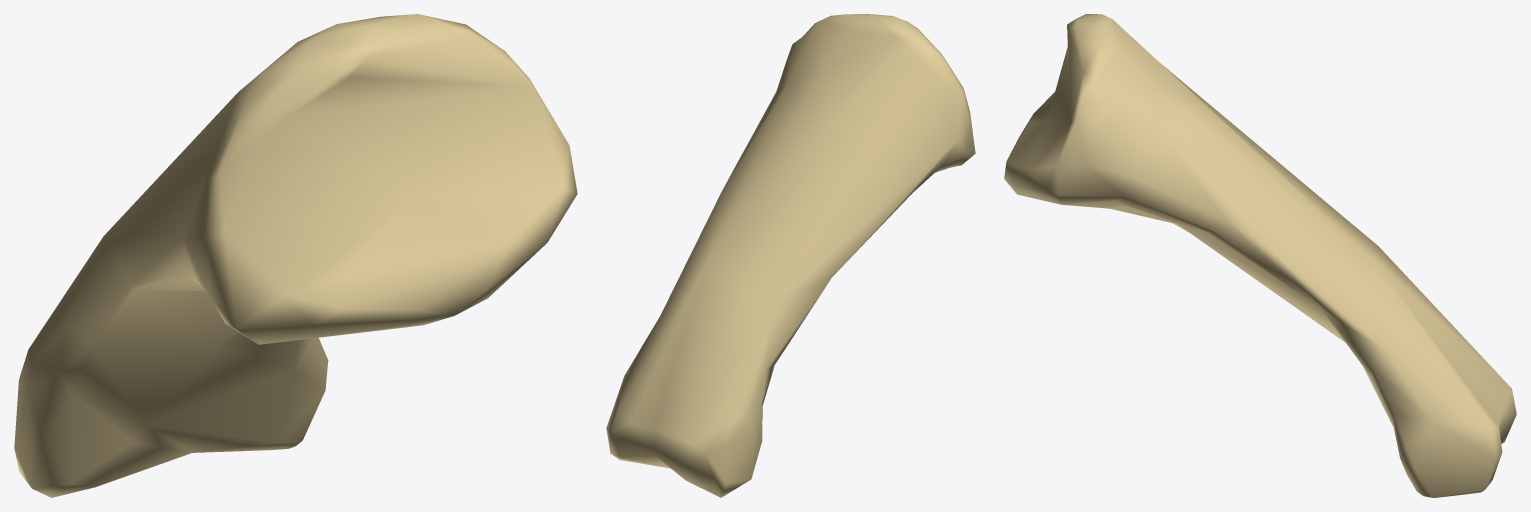
The picture shows the model from 3 angles, left to right: view 1: azimuth 30°, elevation 25°; view 2: azimuth 150°, elevation 25°; view 3: azimuth 270°, elevation 25°; orthographic projection. The views are drawn at different scales.
Visible parts, largest first — view 1: 左侧第三指中节指骨; view 2: 左侧第三指中节指骨; view 3: 左侧第三指中节指骨.
Part boxes in pixels (x1,y1,x2,y2): 左侧第三指中节指骨: (14,14,577,497); 左侧第三指中节指骨: (606,14,975,497); 左侧第三指中节指骨: (1004,14,1516,497).
Size of the model in its own units: 0.0209 by 0.0351 by 0.0387.
